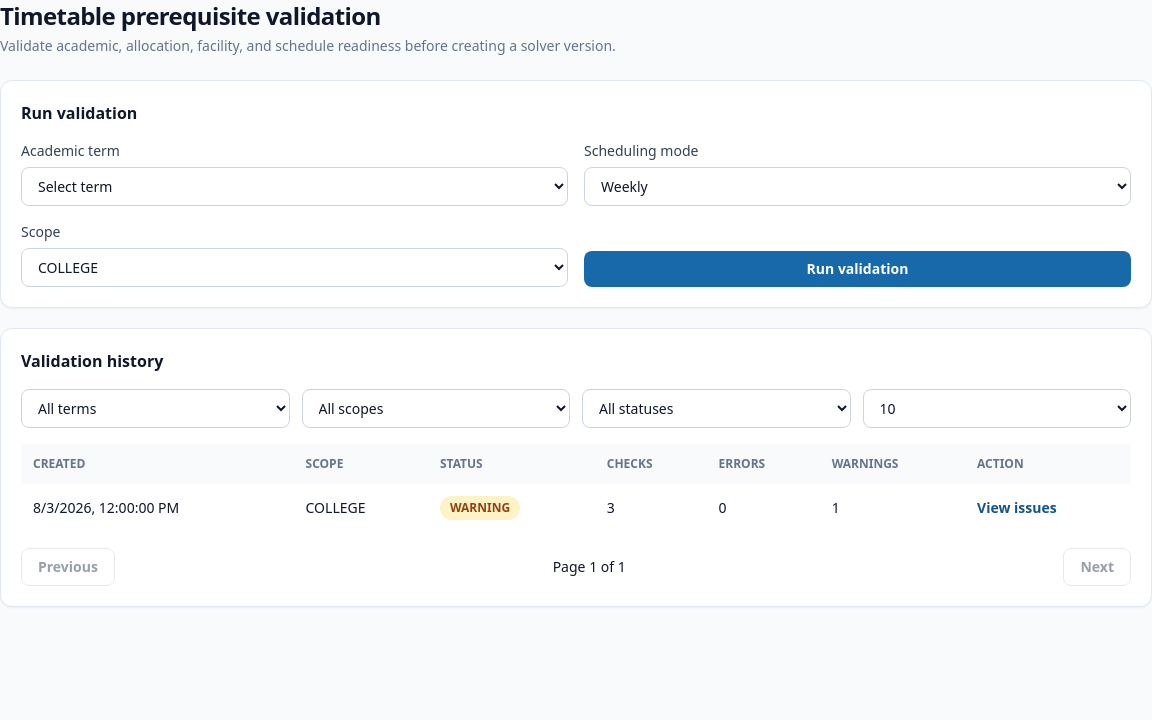
Test: Validation page › renders paginated validation issue details
Click the button "View issues": [1017, 508] box [977,498,1057,518]
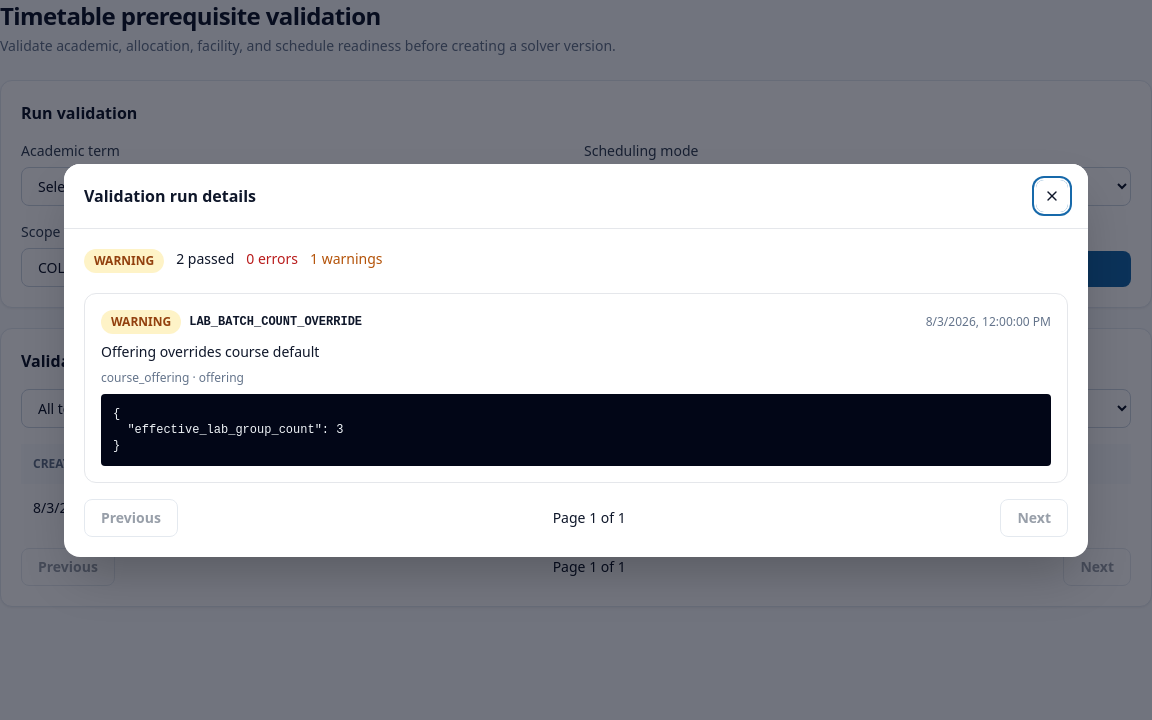
Result: the text "LAB_BATCH_COUNT_OVERRIDE" is shown at [189,314,362,330]
Result: the text "Offering overrides course default" is shown at [101,342,319,360]
Result: the text "{ \"effective_lab_group_count\": 3 }" is shown at [101,394,1051,466]
